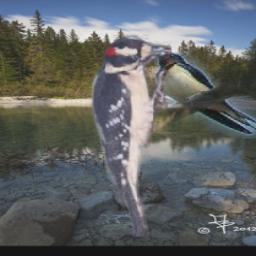Swallow: (156, 53, 256, 140)
Woodpecker: (88, 33, 171, 238)
